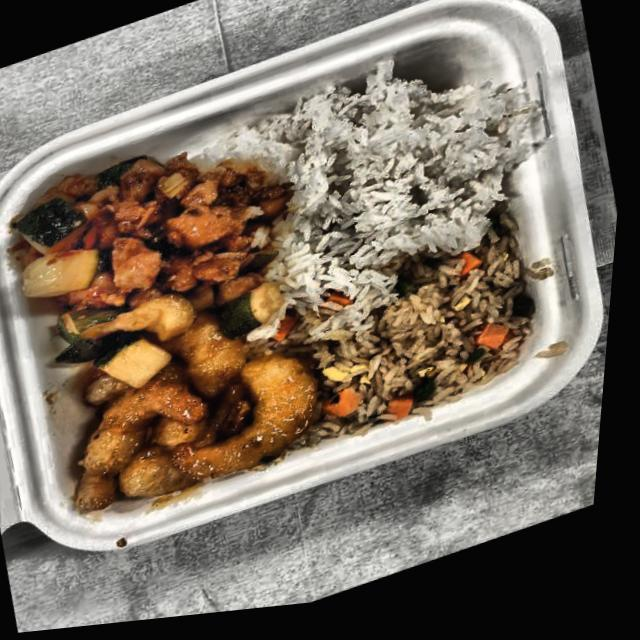Food: (39, 279, 354, 550), (252, 33, 556, 306), (0, 109, 308, 375), (293, 213, 580, 464)
